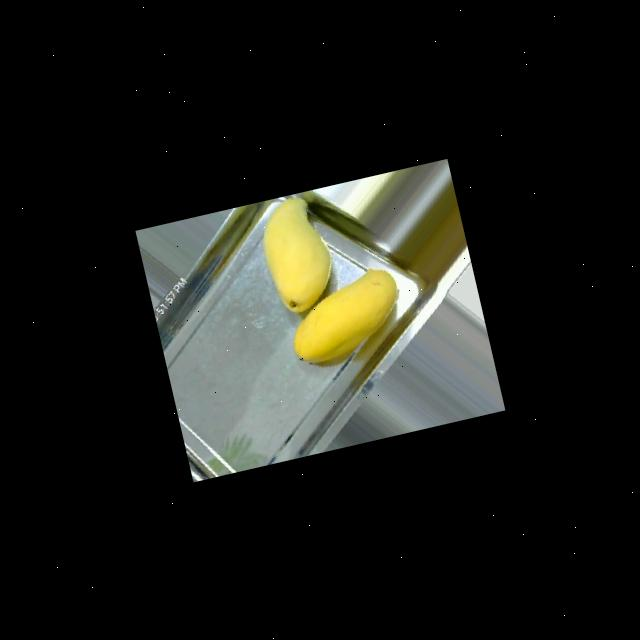Mango: (279, 262, 410, 372), (252, 190, 342, 316)
